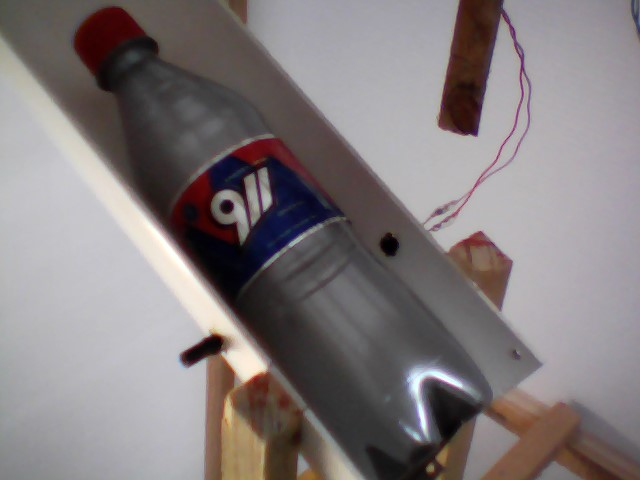plastico: (66, 5, 502, 480)
